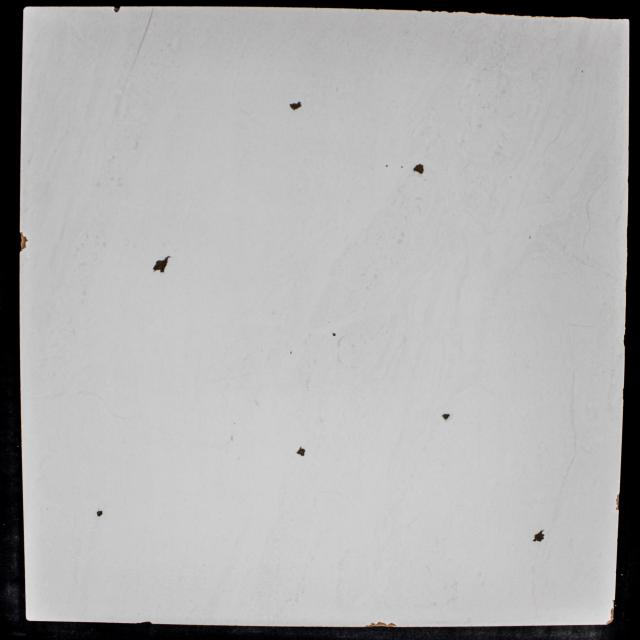edge-chipping: (18, 230, 29, 253), (583, 16, 629, 21), (513, 14, 552, 18), (429, 10, 459, 14), (377, 622, 398, 627), (363, 622, 376, 628), (616, 493, 620, 511), (610, 608, 615, 620), (113, 6, 121, 13), (606, 620, 615, 626), (466, 11, 484, 14), (136, 621, 153, 624), (612, 599, 615, 607)
hole: (153, 255, 171, 274), (532, 529, 546, 543), (413, 163, 424, 175), (289, 101, 302, 111), (295, 446, 306, 456), (442, 414, 450, 421), (96, 510, 103, 517), (332, 332, 336, 337), (385, 165, 388, 167)
line: (134, 35, 145, 61), (145, 7, 154, 34)
